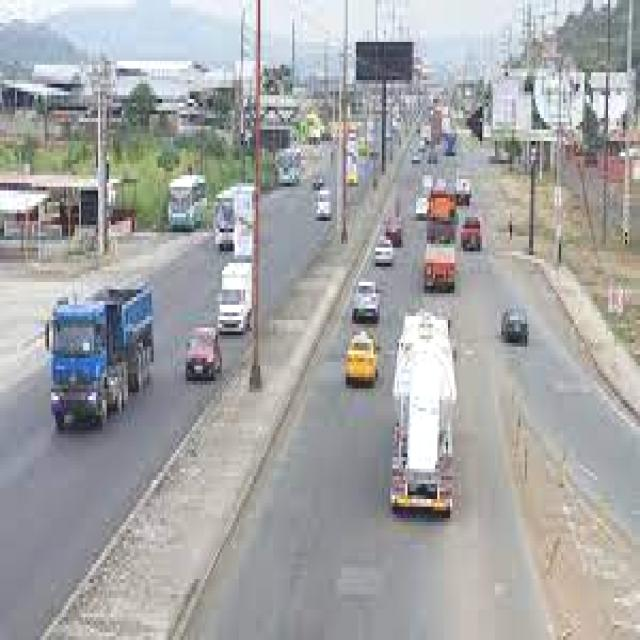BUS: (166, 176, 207, 235)
SED: (340, 324, 380, 392), (182, 319, 222, 384), (498, 298, 533, 352), (353, 276, 385, 322), (369, 234, 397, 268)
TRUCK: (48, 291, 153, 433), (393, 317, 457, 523), (424, 189, 458, 293)
